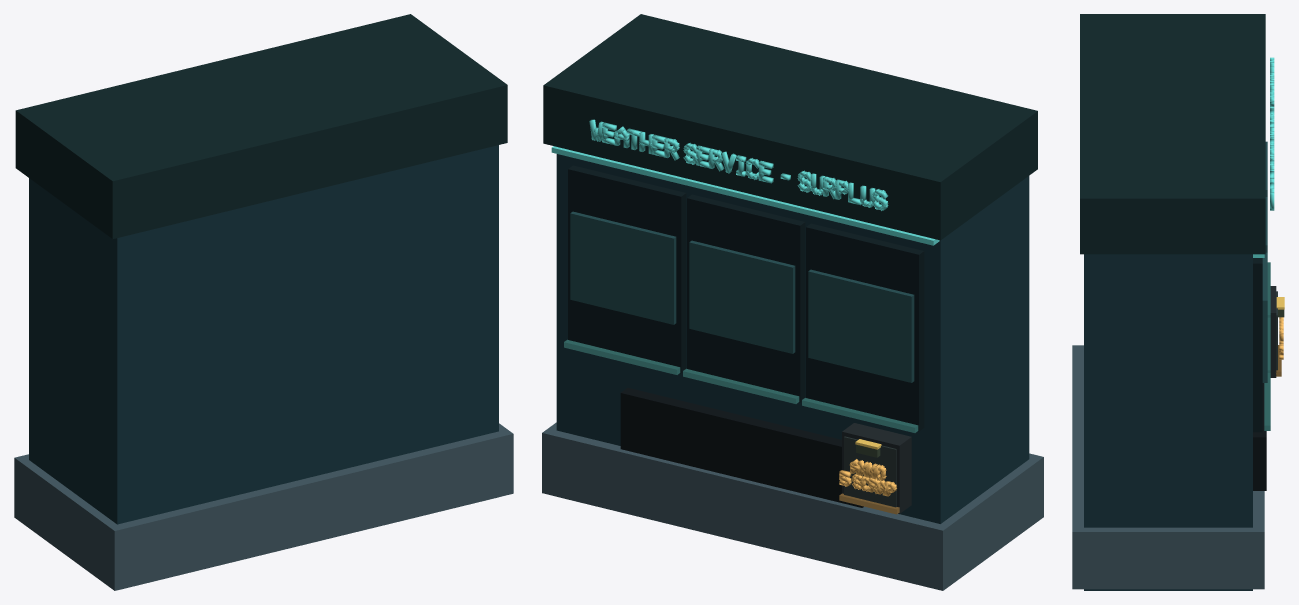
Rendered from vending_station.glb.
3 renders of one model, left to right at view 1: azimuth 30°, elevation 25°; view 2: azimuth 150°, elevation 25°; view 3: azimuth 270°, elevation 25°, orthographic. The views are drawn at different scales.
Visible parts, largest first — view 1: _MeshInstance3D_4265, _MeshInstance3D_4267, _MeshInstance3D_4266; view 2: _MeshInstance3D_4267, _MeshInstance3D_4265, _MeshInstance3D_4266, _MeshInstance3D_4269, _MeshInstance3D_4272, _MeshInstance3D_4278, _MeshInstance3D_4284, _MeshInstance3D_4285, _MeshInstance3D_4273, _MeshInstance3D_4279, Tubes, _MeshInstance3D_4268 (+6 smaller); view 3: _MeshInstance3D_4265, _MeshInstance3D_4267, _MeshInstance3D_4266, _MeshInstance3D_4284, _MeshInstance3D_4269, _MeshInstance3D_4285, Tubes, _MeshInstance3D_4290, _MeshInstance3D_4286.
Part boxes in pixels (x1=…): _MeshInstance3D_4265: x1=29, y1=145, x2=498, y2=524; _MeshInstance3D_4267: x1=15, y1=14, x2=507, y2=238; _MeshInstance3D_4266: x1=14, y1=423, x2=513, y2=590; _MeshInstance3D_4267: x1=543, y1=14, x2=1037, y2=240; _MeshInstance3D_4265: x1=556, y1=154, x2=1029, y2=523; _MeshInstance3D_4266: x1=542, y1=422, x2=1043, y2=590; _MeshInstance3D_4269: x1=620, y1=387, x2=863, y2=507; _MeshInstance3D_4272: x1=806, y1=223, x2=924, y2=431; _MeshInstance3D_4278: x1=687, y1=194, x2=805, y2=402; _MeshInstance3D_4284: x1=568, y1=165, x2=686, y2=373; _MeshInstance3D_4285: x1=570, y1=211, x2=676, y2=324; _MeshInstance3D_4273: x1=808, y1=269, x2=914, y2=382; _MeshInstance3D_4279: x1=689, y1=240, x2=795, y2=353; Tubes: x1=589, y1=119, x2=888, y2=210; _MeshInstance3D_4268: x1=551, y1=146, x2=939, y2=245; _MeshInstance3D_4265: x1=1084, y1=254, x2=1252, y2=590; _MeshInstance3D_4267: x1=1080, y1=14, x2=1265, y2=254; _MeshInstance3D_4266: x1=1072, y1=345, x2=1264, y2=589; _MeshInstance3D_4284: x1=1253, y1=258, x2=1262, y2=432; _MeshInstance3D_4269: x1=1253, y1=383, x2=1266, y2=490; _MeshInstance3D_4285: x1=1262, y1=252, x2=1267, y2=382; Tubes: x1=1270, y1=57, x2=1274, y2=210; _MeshInstance3D_4290: x1=1270, y1=286, x2=1276, y2=377; _MeshInstance3D_4286: x1=1264, y1=373, x2=1270, y2=430.
Size of the model in its own units: 2.09 by 2.06 by 1.
